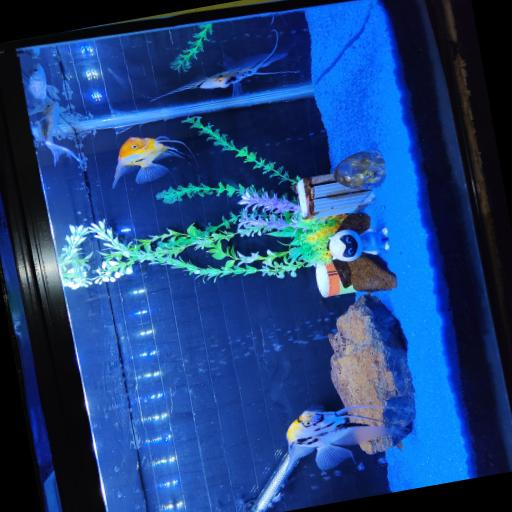Fish: (152, 30, 298, 100), (287, 406, 409, 469), (113, 136, 190, 187), (39, 102, 82, 165), (24, 64, 59, 115), (108, 68, 129, 87), (23, 47, 40, 59)
